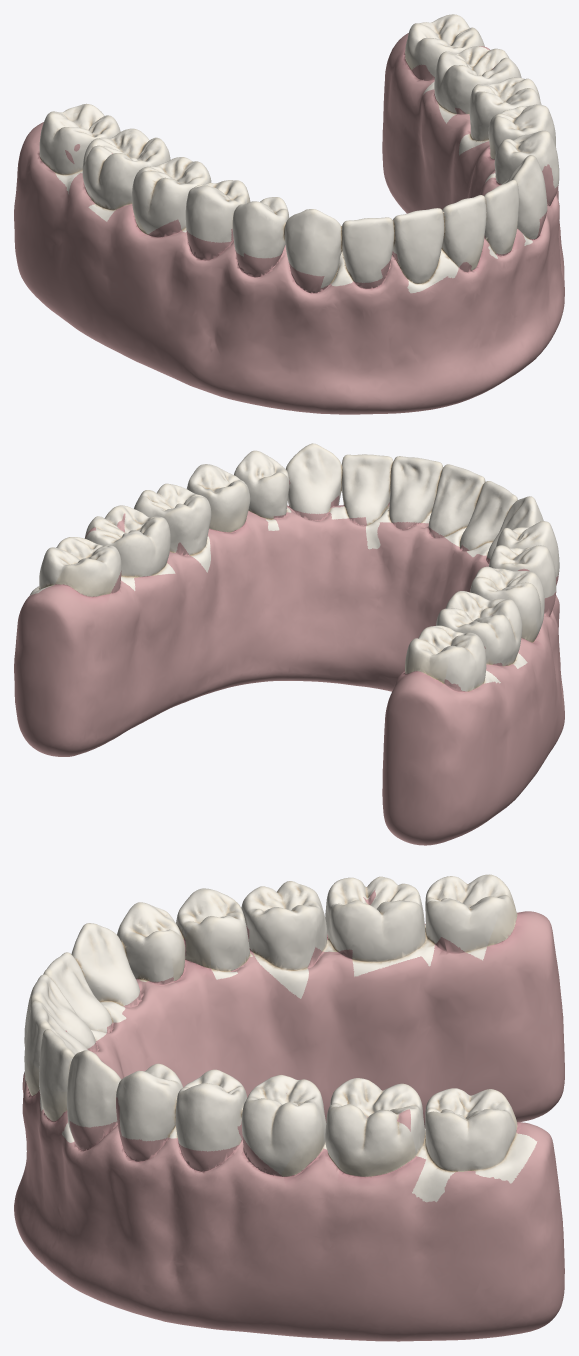
Rendered from arcada_inferior_lite.glb.
The picture shows the model from 3 angles, top to bottom: view 1: azimuth 30°, elevation 25°; view 2: azimuth 150°, elevation 25°; view 3: azimuth 270°, elevation 25°; orthographic projection. The views are drawn at different scales.
Visible parts, largest first — view 1: mesh_node; view 2: mesh_node; view 3: mesh_node.
Boxes of the visible parts, left/top/right/bottom form: mesh_node: left=14, top=14, right=564, bottom=414; mesh_node: left=14, top=443, right=564, bottom=845; mesh_node: left=14, top=874, right=564, bottom=1341.
Bounding box in the file's own units: 1.9 × 0.8337 × 1.66.
